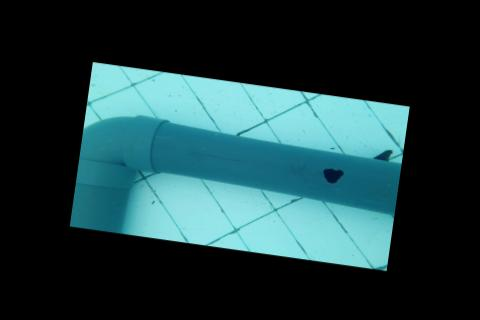kebocoran: (319, 164, 345, 185)
